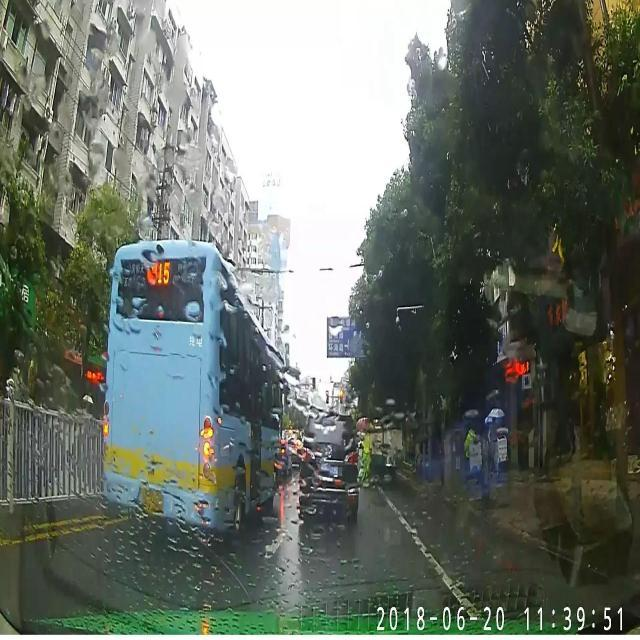car: (299, 407, 359, 524)
